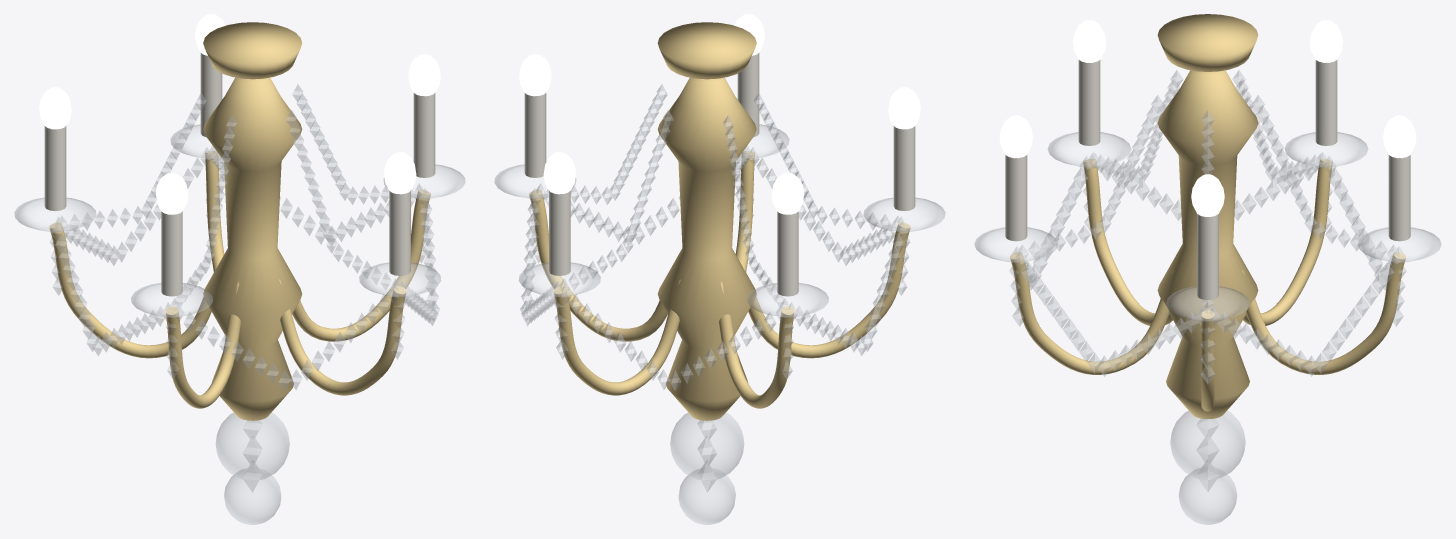
File: chandelier_small.glb
3 renders of one model, left to right at view 1: azimuth 30°, elevation 25°; view 2: azimuth 150°, elevation 25°; view 3: azimuth 270°, elevation 25°, orthographic.
Visible parts, largest first — view 1: stem, crystals, canopy, finial, arm2, arm4, arm0, arm3, ball, bobeche3, bobeche2, bobeche4 (+14 smaller); view 2: stem, crystals, canopy, finial, arm3, arm1, arm0, arm2, ball, bobeche2, bobeche3, bobeche1 (+14 smaller); view 3: crystals, stem, canopy, finial, arm1, arm4, ball, arm2, arm3, bobeche2, bobeche3, bobeche4 (+14 smaller).
Part boxes in pixels (x1,y1,x2,y2): stem: (203, 77, 302, 420); crystals: (50, 84, 439, 390); canopy: (203, 22, 302, 79); finial: (216, 412, 289, 480); arm2: (49, 222, 216, 358); arm4: (279, 279, 406, 395); arm0: (292, 190, 430, 341); arm3: (165, 281, 240, 408); ball: (224, 468, 281, 524); bobeche3: (131, 283, 212, 317); bobeche2: (14, 198, 96, 231); bobeche4: (359, 262, 440, 296); stem: (657, 77, 756, 420); crystals: (520, 84, 909, 390); canopy: (657, 22, 756, 79); finial: (670, 412, 743, 480); arm3: (743, 222, 910, 358); arm1: (553, 279, 680, 395); arm0: (529, 190, 667, 341); arm2: (719, 281, 794, 408); ball: (678, 468, 735, 524); bobeche2: (747, 283, 828, 317); bobeche3: (863, 198, 945, 231); bobeche1: (519, 262, 600, 296); crystals: (1009, 70, 1406, 383); stem: (1157, 70, 1258, 418); canopy: (1157, 14, 1258, 71); finial: (1170, 411, 1245, 479); arm1: (1242, 252, 1405, 374); arm4: (1010, 252, 1173, 374); ball: (1179, 468, 1236, 524); arm2: (1243, 159, 1332, 325); arm3: (1083, 159, 1172, 325); bobeche2: (1285, 132, 1367, 167); bobeche3: (1048, 132, 1130, 167); bobeche4: (974, 227, 1057, 262).
Bounding box in the file's own units: 0.5342 × 0.645 × 0.5565.
